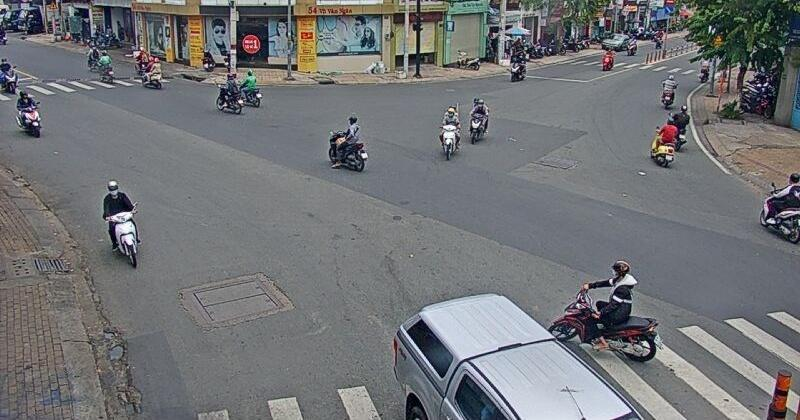xe hoi: (389, 290, 648, 420)
xe may: (550, 259, 662, 362), (102, 178, 137, 264), (328, 116, 370, 171), (648, 118, 680, 167), (438, 104, 462, 161), (14, 89, 41, 138), (467, 97, 491, 145), (215, 73, 243, 114), (239, 68, 260, 107)
